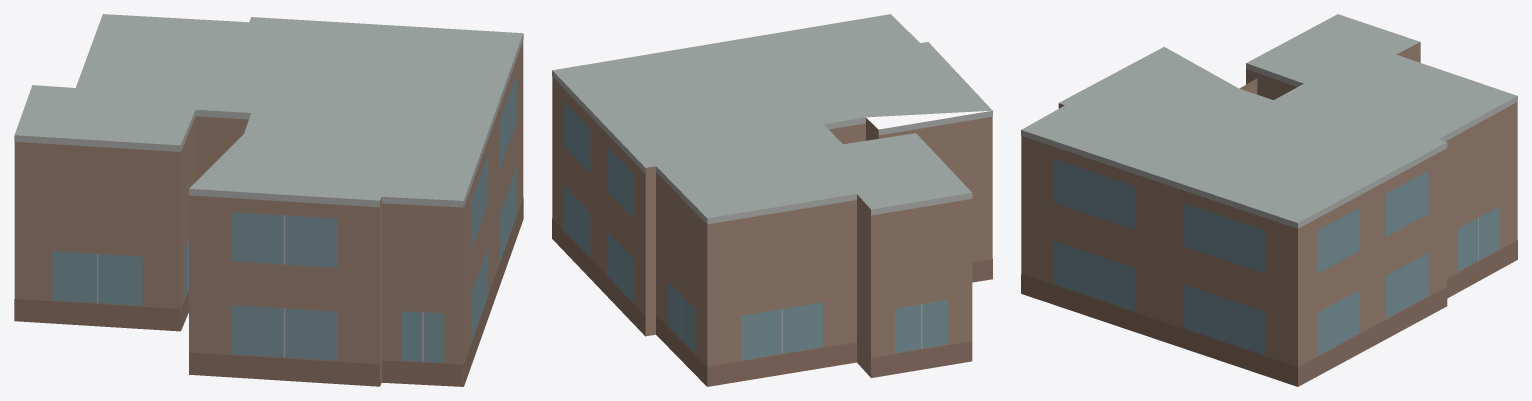
File: survey-upis-32998841.glb
3 renders of one model, left to right at view 1: azimuth 30°, elevation 25°; view 2: azimuth 150°, elevation 25°; view 3: azimuth 270°, elevation 25°, orthographic. The views are drawn at different scales.
Parts seen in each view (by area): view 1: survey-upis-32998841.tmp; view 2: survey-upis-32998841.tmp; view 3: survey-upis-32998841.tmp.
Boxes of the visible parts, bbox=[...] form: survey-upis-32998841.tmp: bbox=[14, 14, 523, 386]; survey-upis-32998841.tmp: bbox=[552, 14, 992, 386]; survey-upis-32998841.tmp: bbox=[1021, 14, 1517, 386].
Size of the model in its own units: 18.9 by 6.9 by 18.97.
